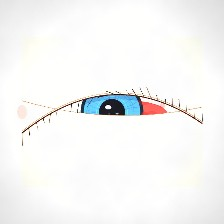hemorrhage_spot: (83, 75, 181, 154)
